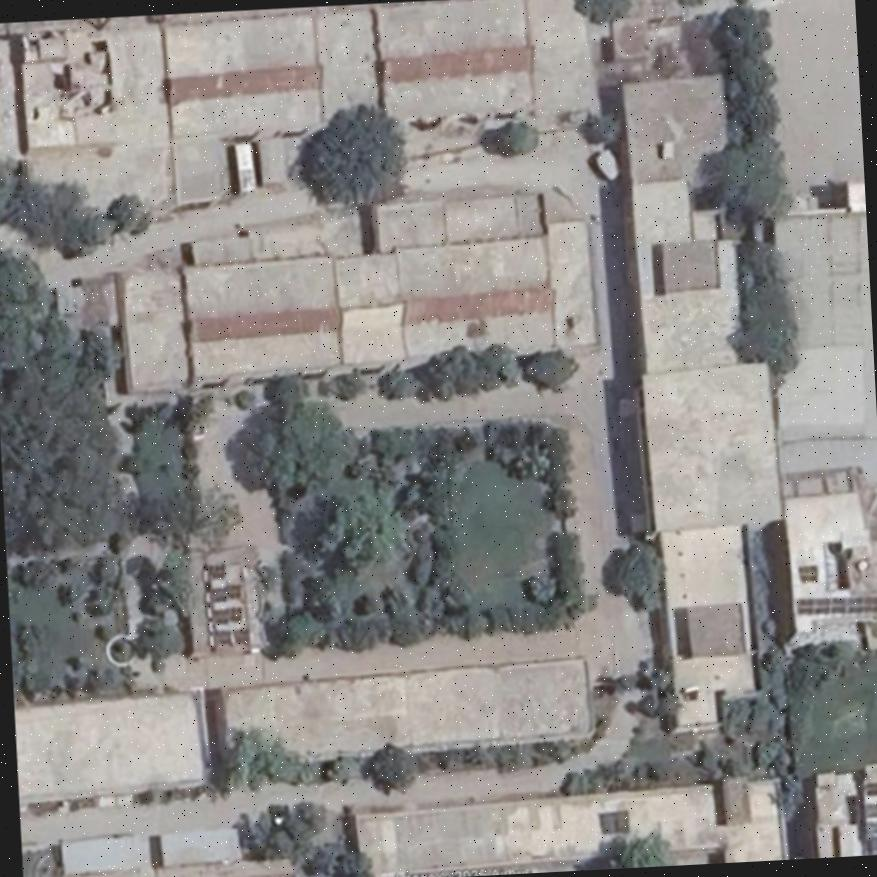Solarpanel: (798, 598, 877, 614), (216, 628, 249, 648), (209, 582, 241, 599), (213, 605, 241, 621), (204, 561, 226, 577), (800, 568, 815, 579), (868, 839, 877, 854)
